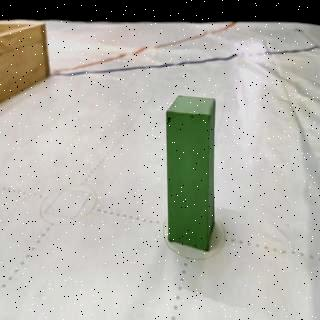greenbox: (165, 92, 217, 252)
